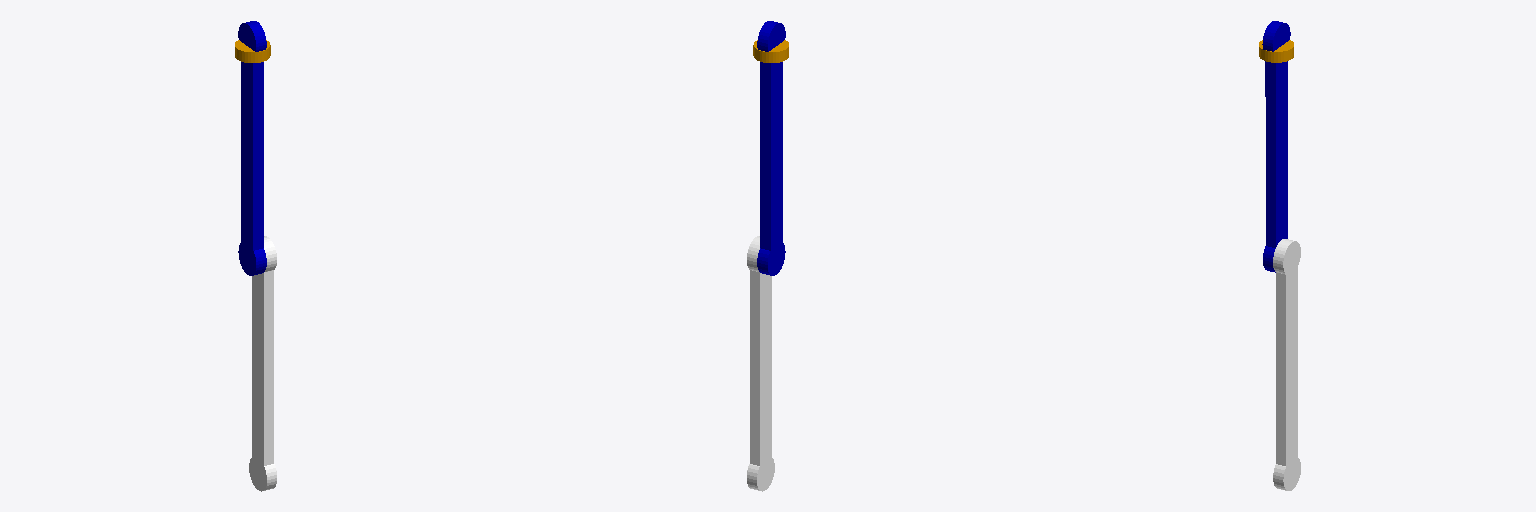
robot.urdf — TwoJointRobot:
<?xml version="1.0" ?>
<!-- =================================================================================== -->
<!-- |    This document was autogenerated by xacro from TwoJointRobot.xacro            | -->
<!-- |    EDITING THIS FILE BY HAND IS NOT RECOMMENDED                                 | -->
<!-- =================================================================================== -->
<robot name="TwoJointRobot" xmlns:xacro="http://www.ros.org/wiki/xacro">
  <material name="blue">
    <color rgba="0 0 0.8 1"/>
  </material>
  <material name="white">
    <color rgba="1 1 1 1"/>
  </material>
  <link name="base_link">
    <visual>
      <geometry>
        <cylinder length="0.05" radius="0.075"/>
      </geometry>
      <origin rpy="0 0 0" xyz="0 0 0.025"/>
    </visual>
    <collision>
      <geometry>
        <cylinder length="0.05" radius="0.075"/>
      </geometry>
      <origin rpy="0 0 0" xyz="0 0 0.025"/>
    </collision>
    <inertial>
      <mass value="0.2"/>
      <inertia ixx="0.000322916666667" ixy="0.0" ixz="0.0" iyy="0.000322916666667" iyz="0.0" izz="0.0005625"/>
    </inertial>
  </link>
  <link name="link_01_cyl">
    <visual>
      <geometry>
        <cylinder length="0.05" radius="0.075"/>
      </geometry>
      <origin rpy="0 0 0" xyz="0 0 0"/>
      <material name="blue"/>
    </visual>
    <collision>
      <geometry>
        <cylinder length="0.05" radius="0.075"/>
      </geometry>
      <origin rpy="0 0 0" xyz="0 0 0"/>
    </collision>
    <inertial>
      <mass value="0.2"/>
      <inertia ixx="0.000322916666667" ixy="0.0" ixz="0.0" iyy="0.000322916666667" iyz="0.0" izz="0.0005625"/>
    </inertial>
  </link>
  <link name="link_12_cyl">
    <visual>
      <geometry>
        <cylinder length="0.05" radius="0.075"/>
      </geometry>
      <origin rpy="0 0 0" xyz="0 0 0"/>
      <material name="blue"/>
    </visual>
    <collision>
      <geometry>
        <cylinder length="0.05" radius="0.075"/>
      </geometry>
      <origin rpy="0 0 0" xyz="0 0 0"/>
    </collision>
    <inertial>
      <mass value="0.2"/>
      <inertia ixx="0.000322916666667" ixy="0.0" ixz="0.0" iyy="0.000322916666667" iyz="0.0" izz="0.0005625"/>
    </inertial>
  </link>
  <link name="link_21_cyl">
    <visual>
      <geometry>
        <cylinder length="0.05" radius="0.075"/>
      </geometry>
      <origin rpy="0 0 0" xyz="0 0 0"/>
      <material name="white"/>
    </visual>
    <collision>
      <geometry>
        <cylinder length="0.05" radius="0.075"/>
      </geometry>
      <origin rpy="0 0 0" xyz="0 0 0"/>
    </collision>
    <inertial>
      <mass value="0.2"/>
      <inertia ixx="0.000322916666667" ixy="0.0" ixz="0.0" iyy="0.000322916666667" iyz="0.0" izz="0.0005625"/>
    </inertial>
  </link>
  <link name="link_23_cyl">
    <visual>
      <geometry>
        <cylinder length="0.05" radius="0.075"/>
      </geometry>
      <origin rpy="0 0 0" xyz="0 0 0"/>
      <material name="white"/>
    </visual>
    <collision>
      <geometry>
        <cylinder length="0.05" radius="0.075"/>
      </geometry>
      <origin rpy="0 0 0" xyz="0 0 0"/>
    </collision>
    <inertial>
      <mass value="0.2"/>
      <inertia ixx="0.000322916666667" ixy="0.0" ixz="0.0" iyy="0.000322916666667" iyz="0.0" izz="0.0005625"/>
    </inertial>
  </link>
  <link name="link_1">
    <visual>
      <geometry>
        <box size="1.0 0.1 0.05"/>
      </geometry>
      <origin rpy="0 0 0" xyz="0.5 0 0"/>
      <material name="blue"/>
    </visual>
    <collision>
      <geometry>
        <box size="1.0 0.1 0.05"/>
      </geometry>
      <origin rpy="0 0 0" xyz="0.5 0 0"/>
    </collision>
    <inertial>
      <mass value="0.5"/>
      <inertia ixx="0.00208333333333" ixy="0.0125" ixz="0.00625" iyy="0.167083333333" iyz="0.000625" izz="0.168333333333"/>
    </inertial>
  </link>
  <link name="link_2">
    <visual>
      <geometry>
        <box size="1.0 0.1 0.05"/>
      </geometry>
      <origin rpy="0 0 0" xyz="0.5 0 0"/>
      <material name="white"/>
    </visual>
    <collision>
      <geometry>
        <box size="1.0 0.1 0.05"/>
      </geometry>
      <origin rpy="0 0 0" xyz="0.5 0 0"/>
    </collision>
    <inertial>
      <mass value="0.5"/>
      <inertia ixx="0.00208333333333" ixy="0.0125" ixz="0.00625" iyy="0.167083333333" iyz="0.000625" izz="0.168333333333"/>
    </inertial>
  </link>
  <joint name="joint_1" type="revolute">
    <axis xyz="0 0 1"/>
    <limit effort="10000" lower="-3" upper="+3" velocity="5"/>
    <dynamics damping="0" friction="0"/>
    <origin rpy="0 1.57 0" xyz="0 0 0.075"/>
    <parent link="base_link"/>
    <child link="link_01_cyl"/>
  </joint>
  <joint name="link_01" type="fixed">
    <origin rpy="0 0 0" xyz="0 0 0"/>
    <parent link="link_01_cyl"/>
    <child link="link_1"/>
  </joint>
  <joint name="link_12" type="fixed">
    <origin rpy="0 0 0" xyz="1.0 0 0"/>
    <parent link="link_1"/>
    <child link="link_12_cyl"/>
  </joint>
  <joint name="joint_2" type="revolute">
    <axis xyz="0 0 1"/>
    <limit effort="10000" lower="-3" upper="+3" velocity="5"/>
    <dynamics damping="0" friction="0"/>
    <origin rpy="0 0 0" xyz="0.0 0. 0.05"/>
    <parent link="link_12_cyl"/>
    <child link="link_21_cyl"/>
  </joint>
  <joint name="link_21" type="fixed">
    <origin rpy="0 0 0" xyz="0 0 0"/>
    <parent link="link_21_cyl"/>
    <child link="link_2"/>
  </joint>
  <joint name="link_23" type="fixed">
    <origin rpy="0 0 0" xyz="1.0 0 0"/>
    <parent link="link_2"/>
    <child link="link_23_cyl"/>
  </joint> 
</robot>


--- Render facts (derived) ---
Views: 3 orthographic renders of the robot side by side, from view 1: azimuth 30°, elevation 25°; view 2: azimuth 150°, elevation 25°; view 3: azimuth 330°, elevation 25°.
Model TwoJointRobot with 7 links and 6 joints (2 revolute, 4 fixed), rooted at base_link, posed every joint at zero.
Links seen in each view (by area): view 1: link_1, link_2, link_23_cyl, link_01_cyl, link_12_cyl, base_link; view 2: link_1, link_2, link_23_cyl, link_01_cyl, link_12_cyl, base_link; view 3: link_2, link_1, link_21_cyl, link_01_cyl, link_23_cyl, base_link.
Link boxes in pixels (box(x1,y1,x2,y2)): link_1: box(241, 41, 263, 261); link_2: box(252, 270, 273, 469); link_23_cyl: box(249, 456, 276, 491); link_01_cyl: box(238, 21, 266, 51); link_12_cyl: box(238, 241, 266, 275); base_link: box(235, 40, 270, 62); link_1: box(760, 36, 782, 261); link_2: box(750, 270, 771, 477); link_23_cyl: box(747, 456, 774, 491); link_01_cyl: box(757, 21, 785, 51); link_12_cyl: box(757, 243, 785, 275); base_link: box(753, 40, 788, 62); link_2: box(1276, 264, 1297, 474); link_1: box(1265, 44, 1287, 247); link_21_cyl: box(1273, 239, 1300, 275); link_01_cyl: box(1262, 21, 1290, 51); link_23_cyl: box(1273, 458, 1300, 490); base_link: box(1259, 40, 1293, 62).
Size in the robot's own frame: 0.1517 by 0.15 by 2.15 metres.
Geometry: primitives only (box / cylinder / sphere), no mesh files.